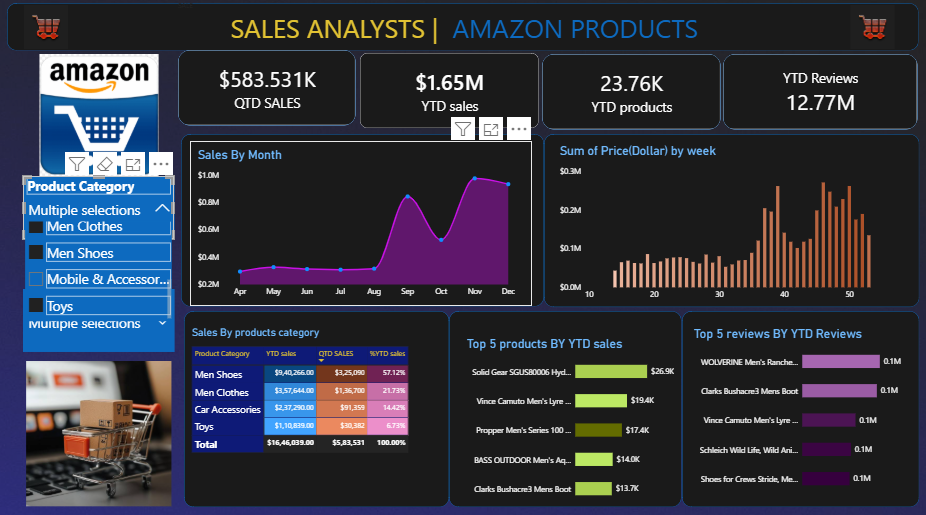

The page's visual inventory and layout, read from the dashboard file:
{"tool":"powerbi","page":{"name":"Page 1","canvas":[1920,1080],"ordinal":0},"visuals":[{"type":"shape","box":[382.5,647.5,547.5,405],"z":0},{"type":"shape","box":[17.5,12.5,1882.2,98.3],"z":1000},{"type":"textbox","box":[369.2,8.6,1181.5,105.8],"z":2000},{"type":"cardVisual","fields":{"Data":["Amazon_Data.YTD sales"]},"box":[745,115,369.4,155.5],"z":3000},{"type":"cardVisual","fields":{"Data":["Amazon_Data.QTD SALES"]},"box":[370,110,367.2,155.5],"z":4000},{"type":"cardVisual","fields":{"Data":["Amazon_Data.YTD products"]},"box":[1120,117.5,369,155.5],"z":5000},{"type":"cardVisual","fields":{"Data":["Amazon_Data.YTD Reviews"]},"box":[1495,117.5,401.8,155.5],"z":6000},{"type":"shape","box":[375,282.5,749.5,356.4],"z":7000},{"type":"areaChart","title":"Sales By Month","fields":{"Category":["date table.month name"],"Y":["Sum(Amazon_Data.Price(Dollar))"]},"box":[395,297.5,706.3,341.3],"z":8000},{"type":"shape","box":[1125,282.5,775,357.5],"z":9000},{"type":"columnChart","fields":{"Category":["date table.week"],"Y":["Sum(Amazon_Data.Price(Dollar))"]},"box":[1142.5,290,706.3,356.4],"z":10000},{"type":"pivotTable","title":"Sales By products category","fields":{"Rows":["Amazon_Data.Product Category"],"Values":["Amazon_Data.YTD sales","Amazon_Data.QTD SALES","Divide(Amazon_Data.YTD sales, ScopedEval(Amazon_Data.YTD sales, []))"]},"box":[382.3,667.4,555,377.5],"z":11000},{"type":"shape","box":[930,647.5,480,405],"z":12000},{"type":"shape","box":[1410,647.5,490,405],"z":13000},{"type":"clusteredBarChart","title":"Top 5 products BY YTD sales","fields":{"Category":["Amazon_Data.Product Description"],"Y":["Amazon_Data.YTD sales"]},"box":[950.4,686.9,460,365],"z":14000},{"type":"clusteredBarChart","title":"Top 5 reviews BY YTD Reviews","fields":{"Category":["Amazon_Data.Product Description"],"Y":["Amazon_Data.YTD Reviews"]},"box":[1417.5,667.5,460,365],"z":15000},{"type":"slicer","fields":{"Values":["Amazon_Data.Product Category"]},"box":[50,475,312.5,130],"z":16000},{"type":"slicer","fields":{"Values":["date table.otr"]},"box":[50,602.5,312.5,130],"z":17000},{"type":"image","box":[50,122.5,312.5,345],"z":18000},{"type":"image","box":[0,752.5,412.5,300],"z":19000},{"type":"image","box":[49.7,17.3,95,90.7],"z":20000},{"type":"image","box":[1730.2,17.3,146.9,90.7],"z":21000}]}

Visuals, with their boxes in screenshot pixels (x1, y1, x2, y2), scaled from the page's 1920x1080 canvas onto the 926x515 screenshot:
shape: 184,309,449,502
shape: 8,6,916,53
textbox: 178,4,748,55
cardVisual - Amazon_Data.YTD sales: 359,55,537,129
cardVisual - Amazon_Data.QTD SALES: 178,52,356,127
cardVisual - Amazon_Data.YTD products: 540,56,718,130
cardVisual - Amazon_Data.YTD Reviews: 721,56,915,130
shape: 181,135,542,305
"Sales By Month" areaChart: 191,142,531,305
shape: 543,135,916,305
columnChart - date table.week x Sum(Amazon_Data.Price(Dollar)): 551,138,892,308
"Sales By products category" pivotTable: 184,318,452,498
shape: 449,309,680,502
shape: 680,309,916,502
"Top 5 products BY YTD sales" clusteredBarChart: 458,328,680,502
"Top 5 reviews BY YTD Reviews" clusteredBarChart: 684,318,906,492
slicer - Amazon_Data.Product Category: 24,227,175,288
slicer - date table.otr: 24,287,175,349
image: 24,58,175,223
image: 0,359,199,502
image: 24,8,70,52
image: 834,8,905,52
